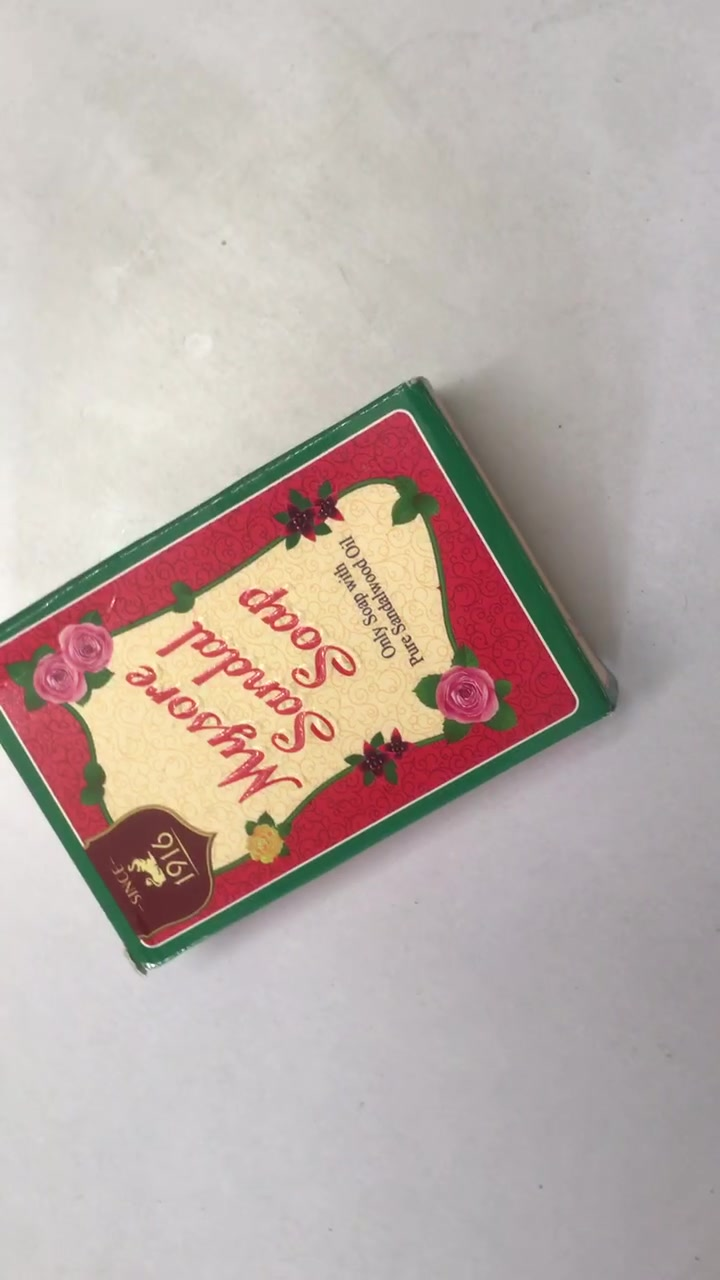mysore sandal soap: (8, 389, 619, 970)
